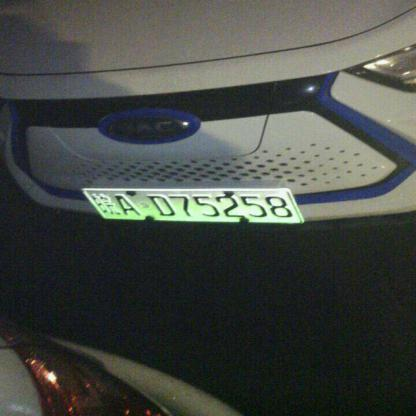lp: (81, 190, 300, 222)
